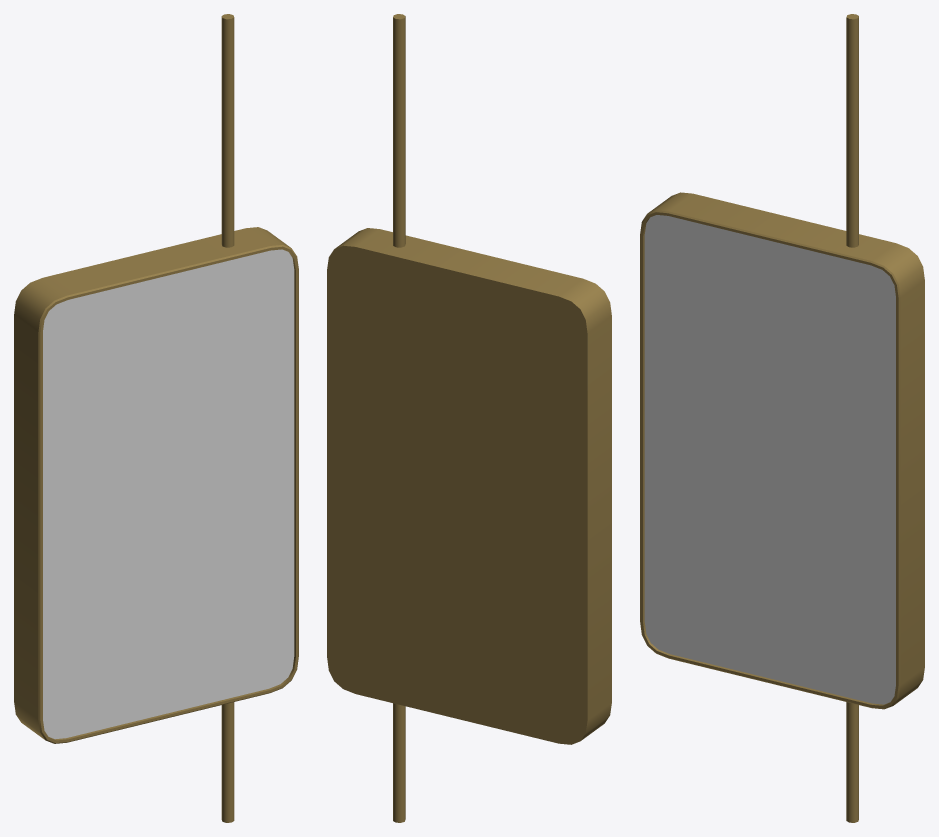
File: BtR_Mirror.fbx
The picture shows the model from 3 angles, left to right: view 1: azimuth 30°, elevation 25°; view 2: azimuth 150°, elevation 25°; view 3: azimuth 330°, elevation 25°; orthographic projection.
Parts seen in each view (by area): view 1: mirror, BtR_Mirror_LP; view 2: BtR_Mirror_LP; view 3: mirror, BtR_Mirror_LP.
Boxes of the visible parts, bbox=[...] form: mirror: bbox=[43, 249, 294, 739]; BtR_Mirror_LP: bbox=[14, 14, 298, 822]; BtR_Mirror_LP: bbox=[327, 14, 611, 822]; mirror: bbox=[644, 215, 895, 704]; BtR_Mirror_LP: bbox=[640, 14, 924, 822].
Bounding box in the file's own units: 0.6 × 1.77 × 0.1.
